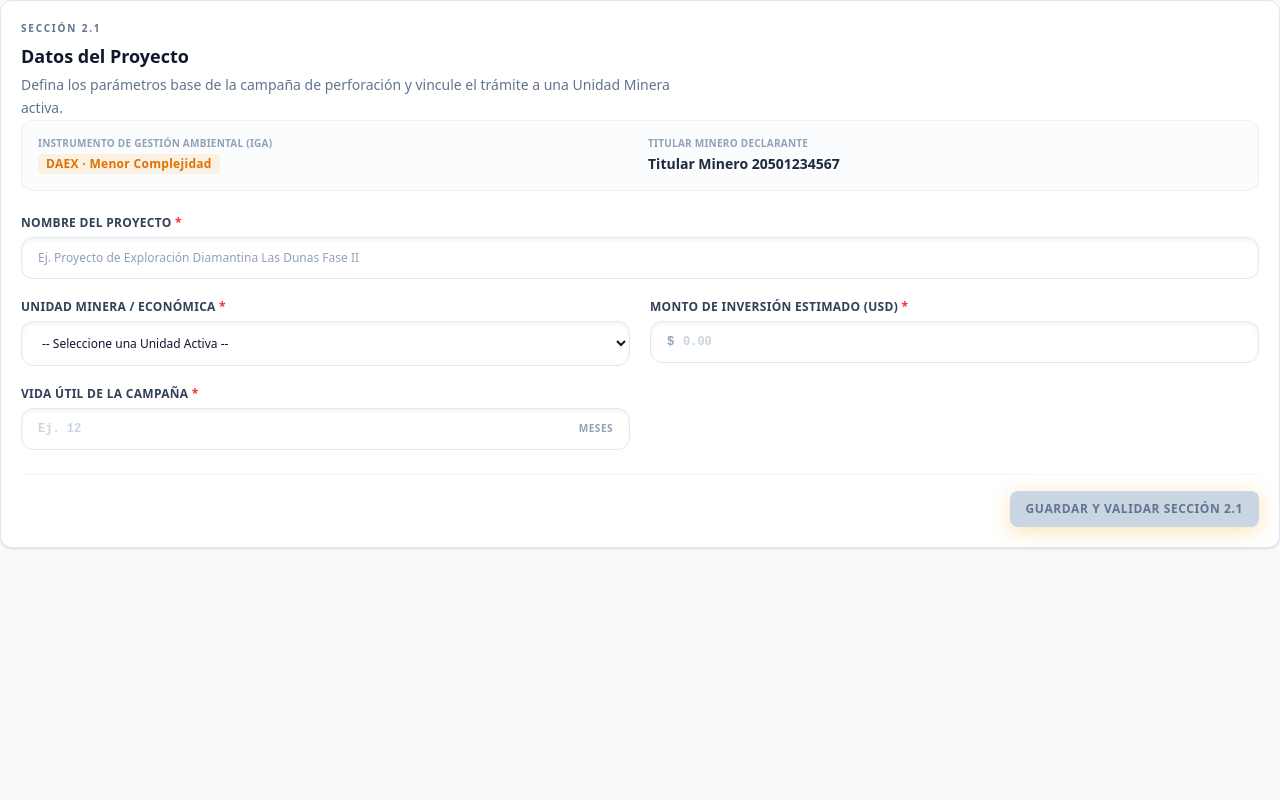
Scenario: DatosProyectoComponent › Unidad minera pendiente de registro › advierte que la unidad se incorporará al padrón al remitir
Select "⚙️ [ Registrar Nueva Unidad Minera ]" in the dropdown with id "unidadMinera". click: x=326, y=343
box: [21,321,630,366]
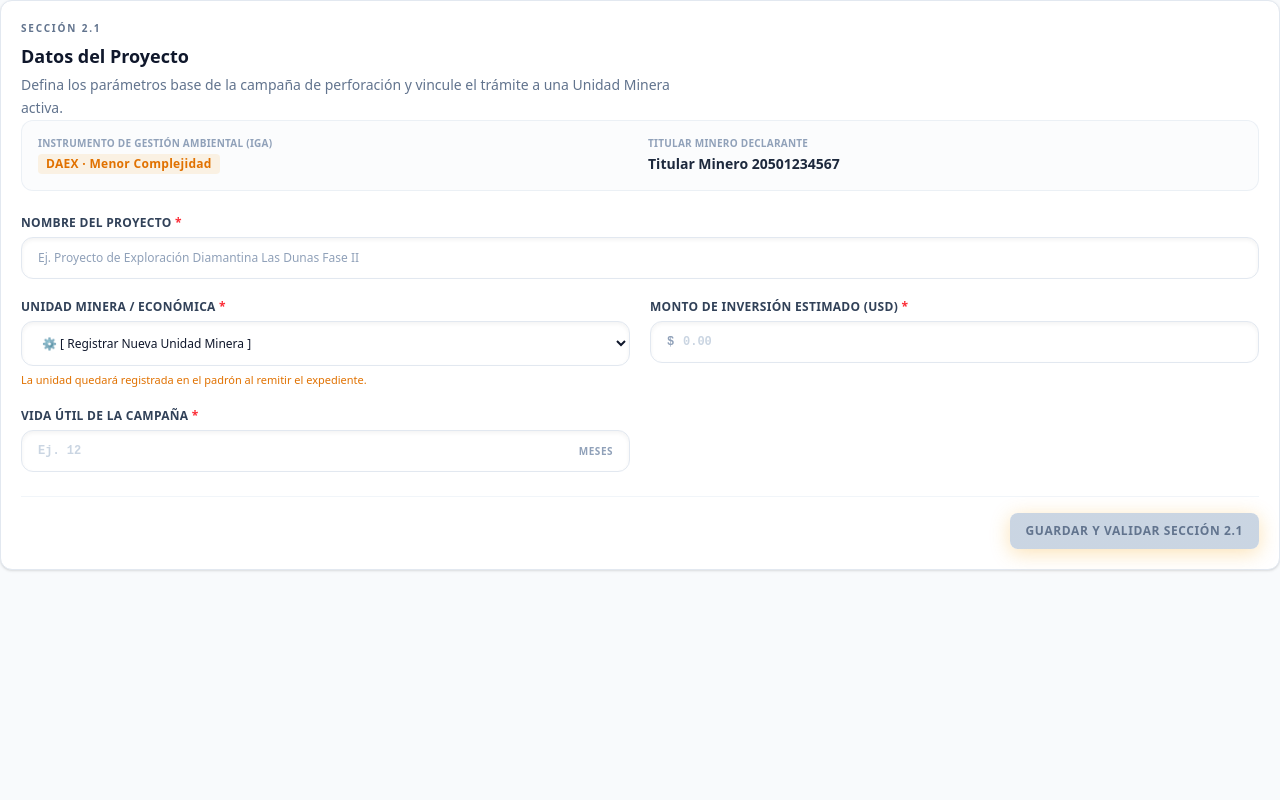
Expected: the button "Guardar y Validar Sección 2.1" is disabled, [1010,513,1259,549]
Expected: the text "quedará registrada en el padrón" is shown, [21,372,367,387]
